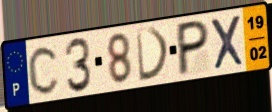3: (63, 36, 93, 95)
8: (105, 31, 134, 86)
C: (27, 43, 61, 96)
D: (134, 26, 172, 84)
P: (177, 18, 211, 79)
X: (209, 13, 247, 72)
